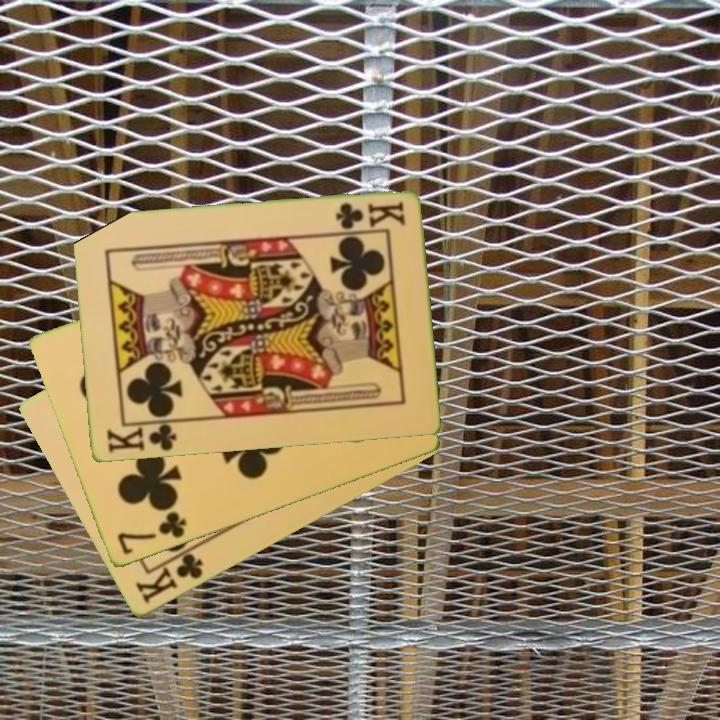7c: (113, 508, 190, 559)
Kc: (131, 543, 206, 607), (103, 418, 182, 457), (332, 197, 408, 233)
